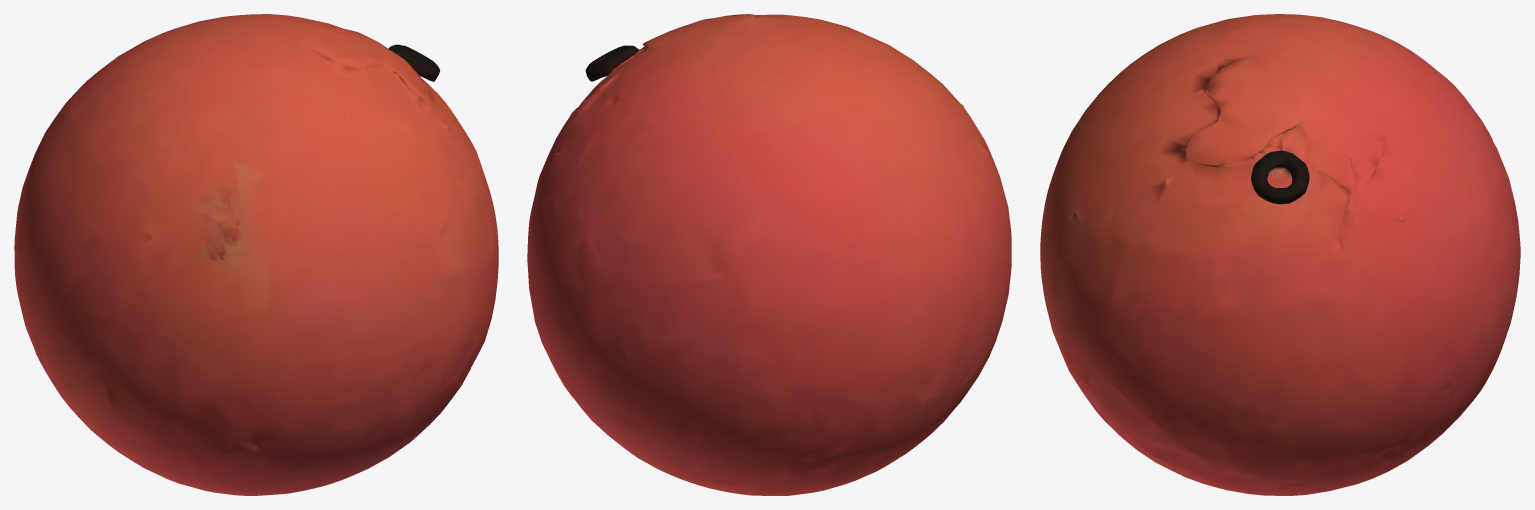
Rendered from medicine-ball.glb.
3 views of the same model, side by side, from view 1: azimuth 30°, elevation 25°; view 2: azimuth 150°, elevation 25°; view 3: azimuth 270°, elevation 25° (orthographic).
Parts seen in each view (by area): view 1: tripo_node_371cae75-06f7-435b-bc14-7cf7d26a70e0; view 2: tripo_node_371cae75-06f7-435b-bc14-7cf7d26a70e0; view 3: tripo_node_371cae75-06f7-435b-bc14-7cf7d26a70e0.
Boxes of the visible parts, x1=… form: tripo_node_371cae75-06f7-435b-bc14-7cf7d26a70e0: x1=14, y1=14, x2=498, y2=495; tripo_node_371cae75-06f7-435b-bc14-7cf7d26a70e0: x1=527, y1=14, x2=1011, y2=495; tripo_node_371cae75-06f7-435b-bc14-7cf7d26a70e0: x1=1040, y1=14, x2=1520, y2=495.
Size of the model in its own units: 0.9999 by 0.9992 by 0.9995.
Materials: 1 (1 with a texture image).
